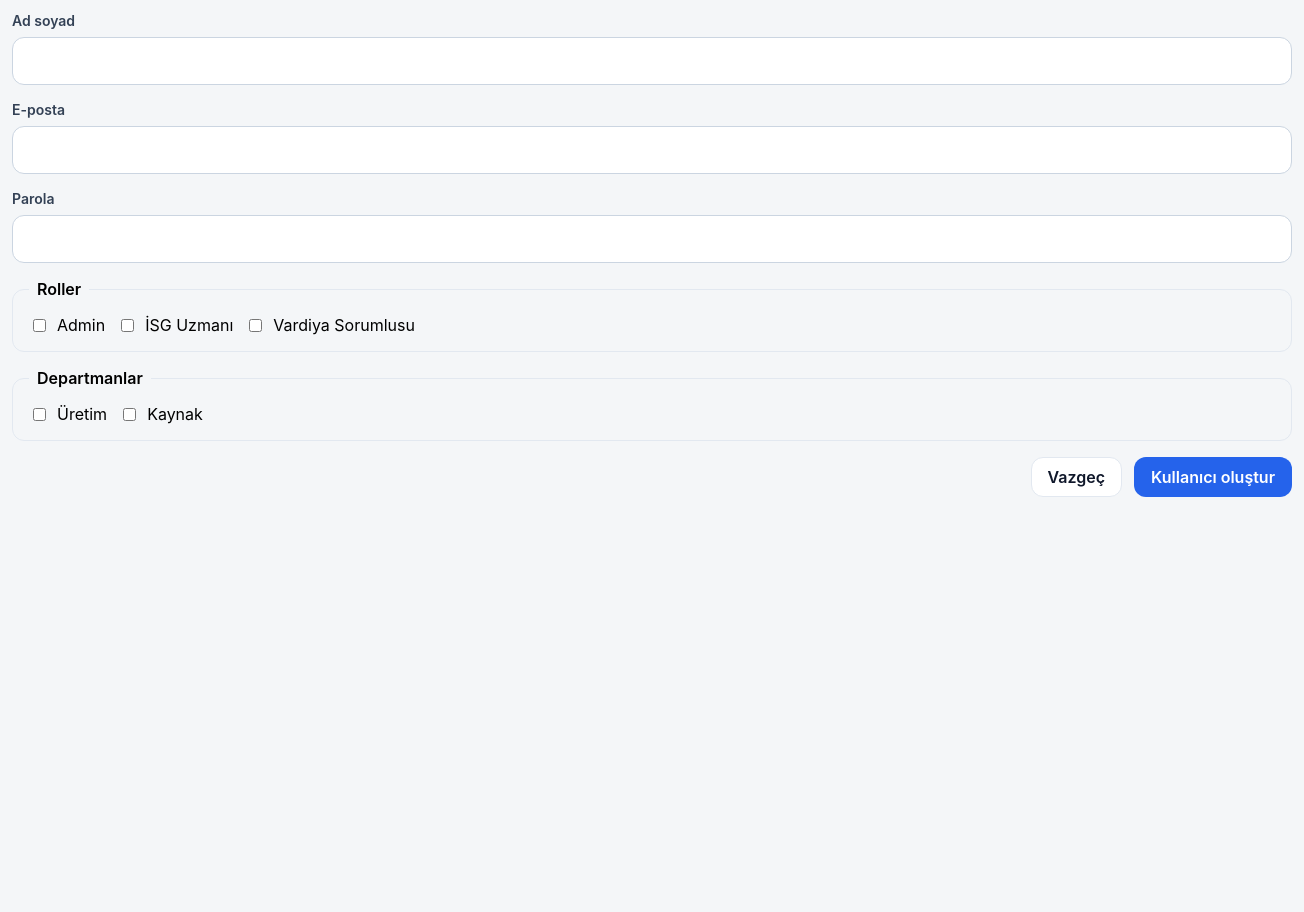
Test case: UserForm › shows validation errors when create fields are empty
Step 1. Click the button "Kullanıcı oluştur" → (1213, 477), box [1134, 457, 1292, 497]
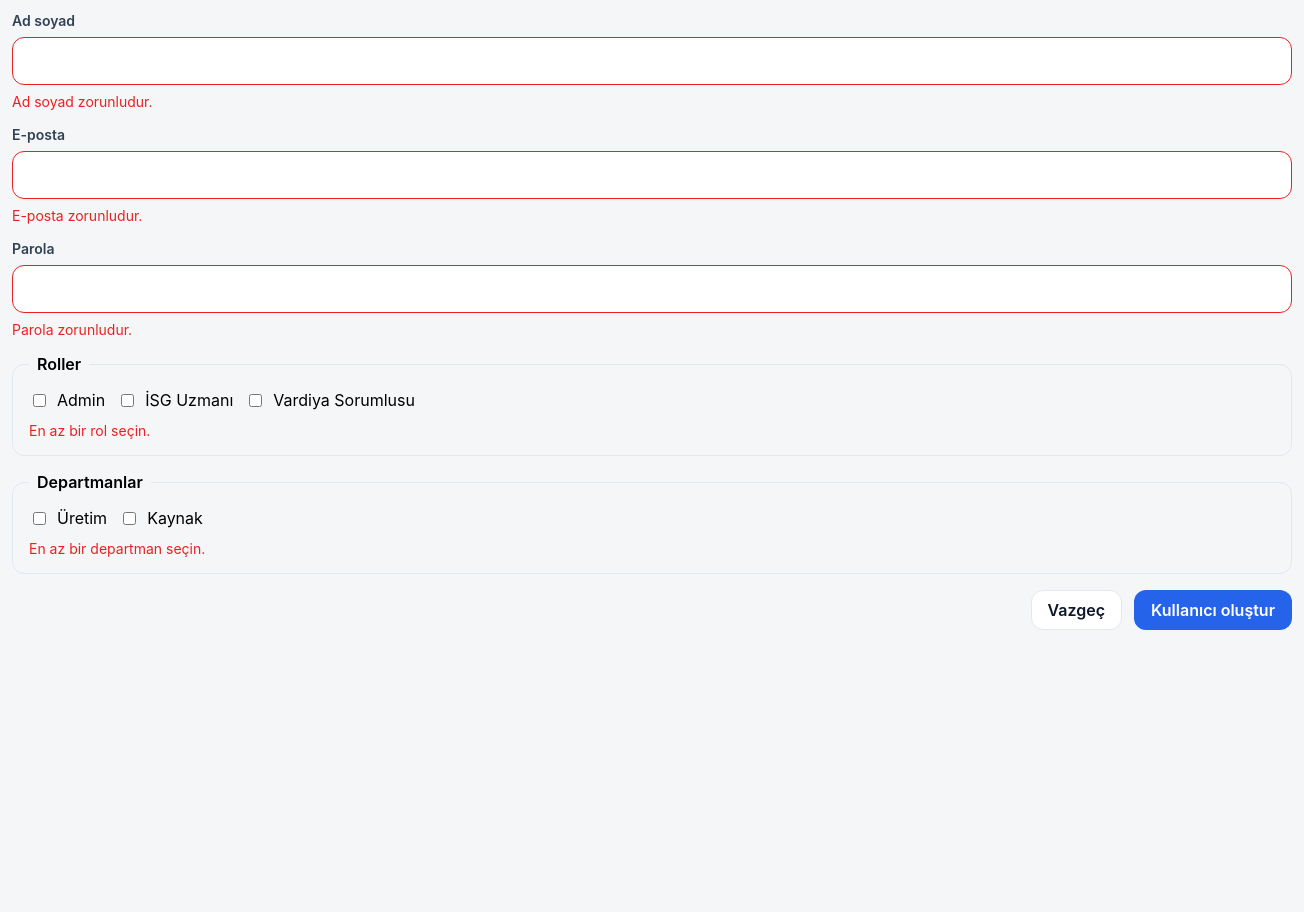
Expected: the text "Ad soyad zorunludur." is shown, [12, 93, 152, 110]
Expected: the text "E-posta zorunludur." is shown, [12, 207, 142, 224]
Expected: the text "Parola zorunludur." is shown, [12, 321, 132, 338]
